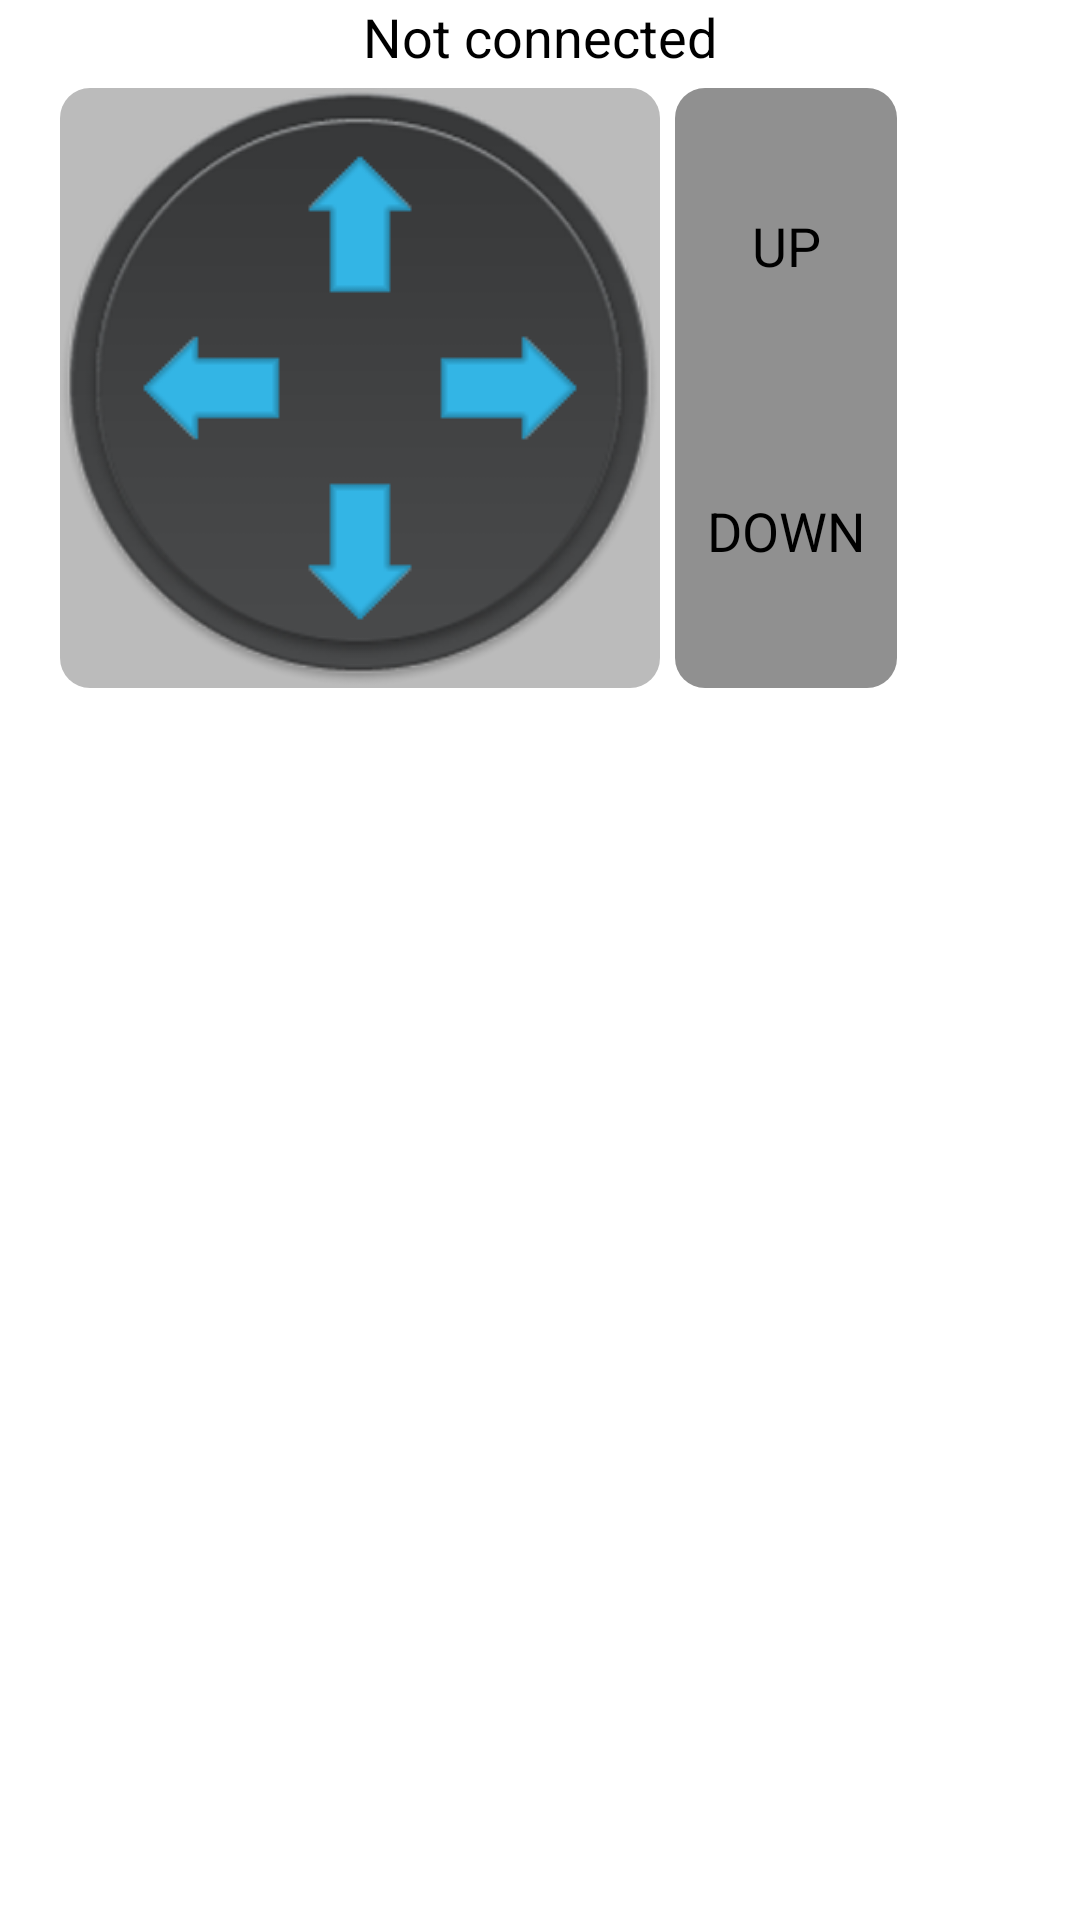

Icon click points for this 1080 x 1920 phone screenshot, format point (x, y):
move down: point (360, 551)
move up: point (360, 224)
